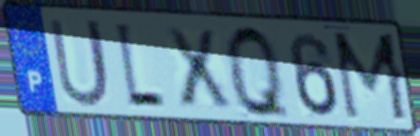6: (286, 30, 340, 119)
L: (111, 18, 168, 113)
M: (329, 29, 413, 125)
Q: (222, 21, 294, 124)
U: (46, 16, 113, 111)
X: (161, 25, 236, 111)
